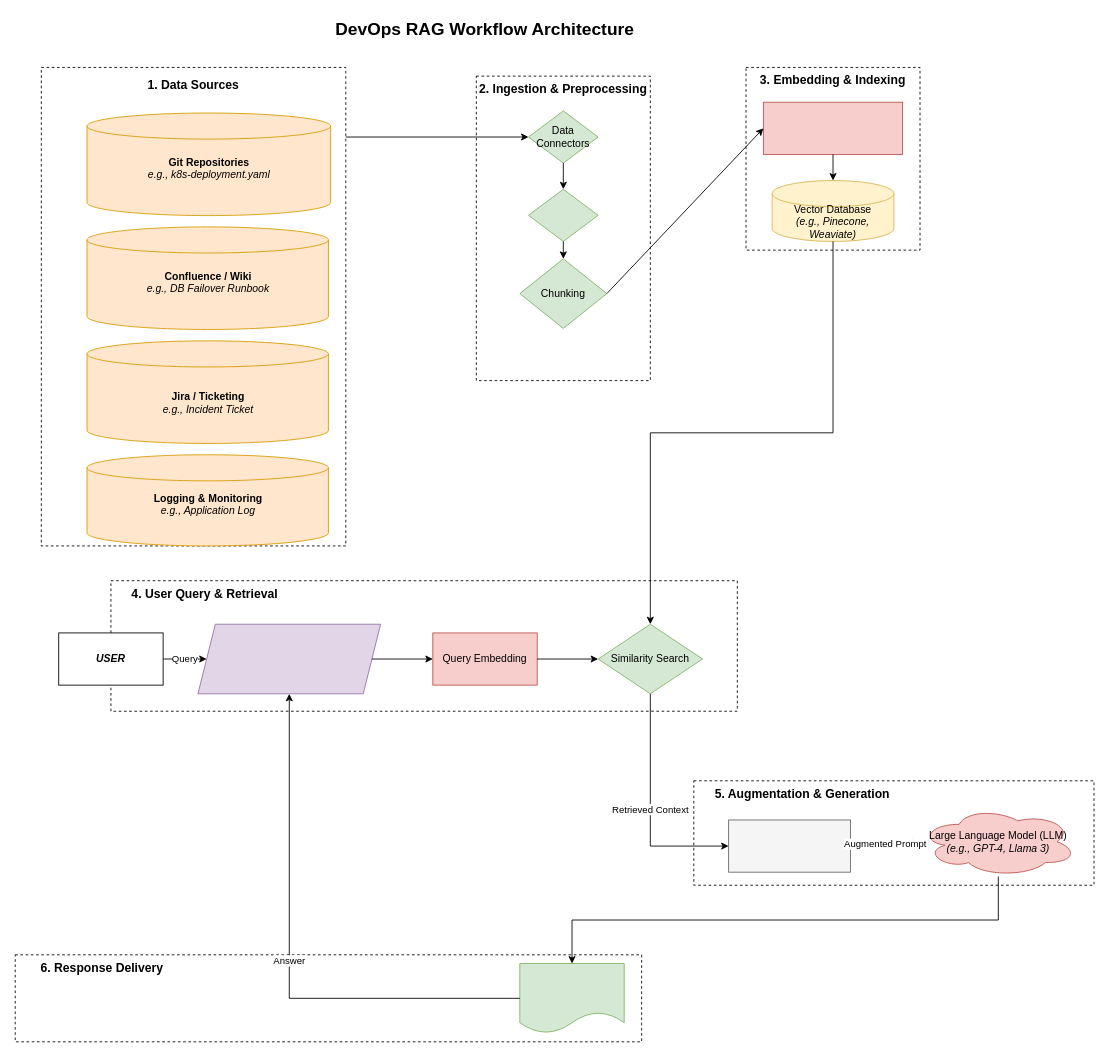
Image size: 1109x1057. Some labels were removed from this diagram. Here are the shapes that lost their labels. From the top down, the centre of each, then its label:
At pixel 833 127: "Embedding Model".
At pixel 563 214: "Data Cleaning".
At pixel 289 658: "User Interface".
At pixel 789 845: "Context Augmentation".
At pixel 571 998: "Generated Response".
